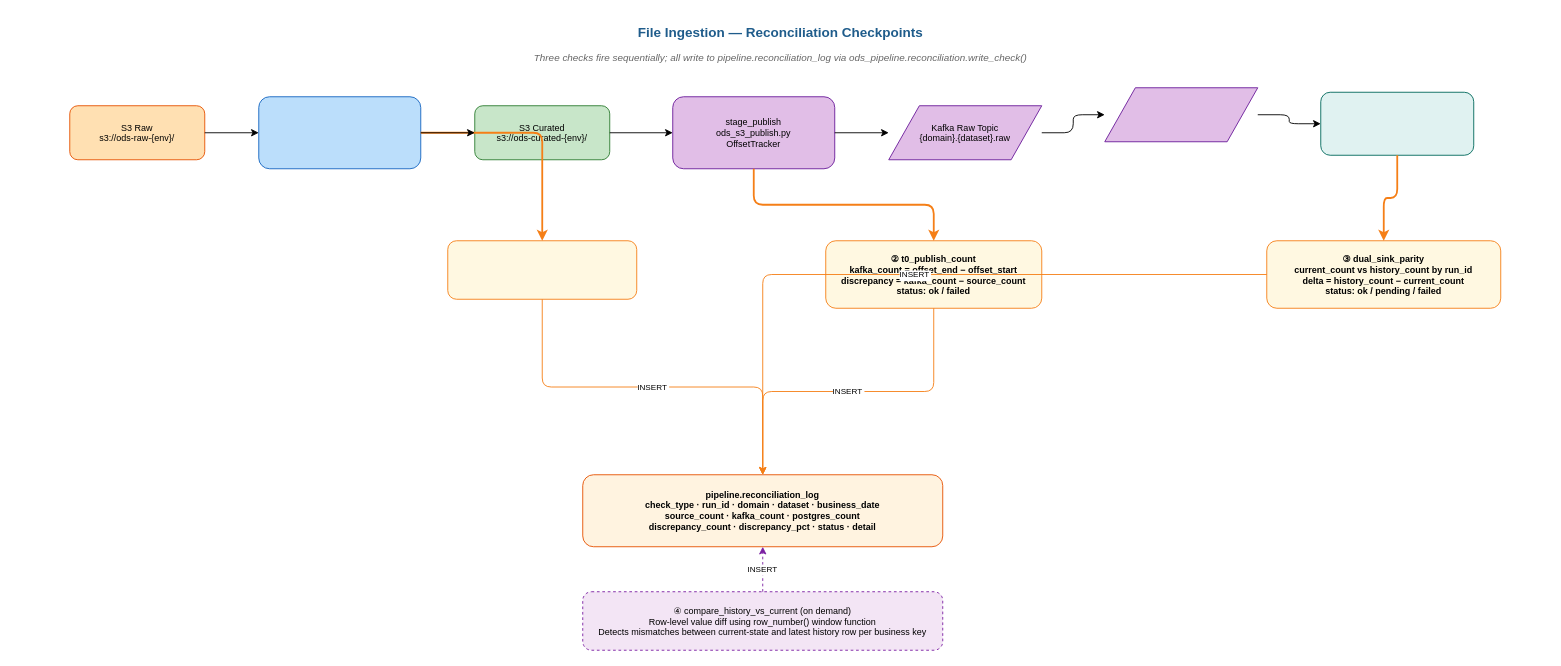
The diagram is 1561 pixels wide and 666 high, and some of its shapes have lost their labels. Here are the shapes that lost their labels. From the top down, the box of each, then its label:
(258, 96, 421, 169): Glue Spark stage_ingest RAW_READ · DQ · CURATED_WRITE
(1104, 87, 1258, 142): Kafka Canonical Topic {domain}.{dataset}
(1320, 91, 1474, 155): JDBC Sink current → ods.* history → ods.*_history
(447, 240, 637, 299): ① t0_input_count source_count vs 0 discrepancy check status: ok / failed
